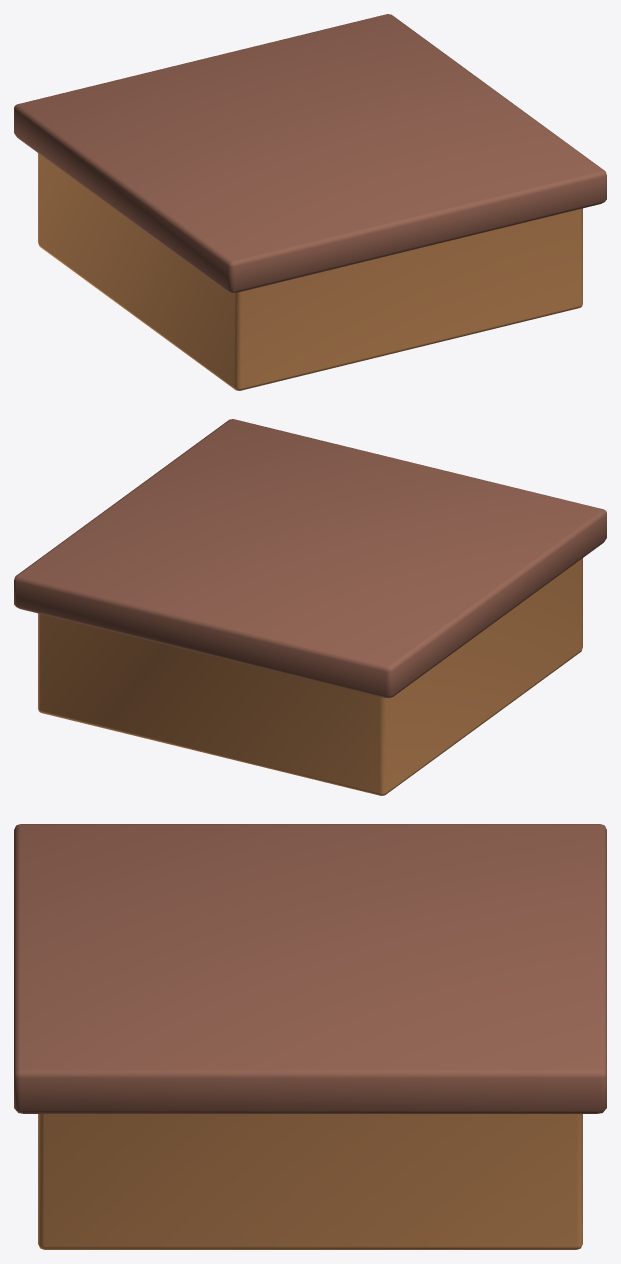
File: MDL_Env_CounterBig.fbx
The picture shows the model from 3 angles, top to bottom: view 1: azimuth 30°, elevation 25°; view 2: azimuth 150°, elevation 25°; view 3: azimuth 270°, elevation 25°; orthographic projection. The views are drawn at different scales.
Parts seen in each view (by area): view 1: mesh_counter; view 2: mesh_counter; view 3: mesh_counter.
Part boxes in pixels (box(x1,y1,x2,y2)): mesh_counter: box(14, 14, 606, 390); mesh_counter: box(14, 419, 606, 795); mesh_counter: box(14, 824, 606, 1249).
Size of the model in its own units: 160 by 56.67 by 160.
Materials: 1 (1 with a texture image).
